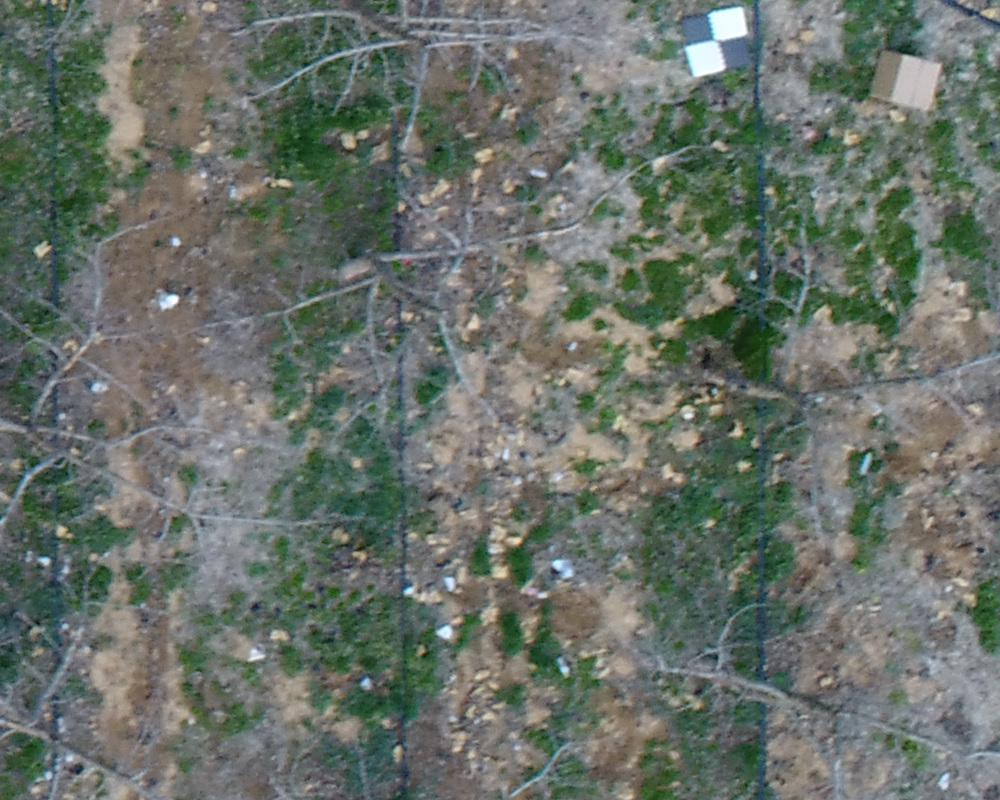apple: (185, 144, 671, 463), (10, 194, 335, 597), (633, 222, 990, 482), (629, 592, 990, 790), (224, 10, 615, 161)
